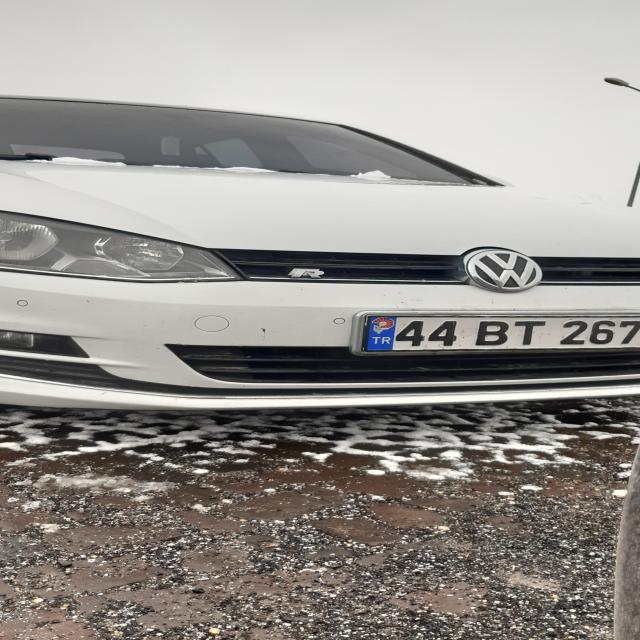license_plate: (365, 315, 640, 352)
